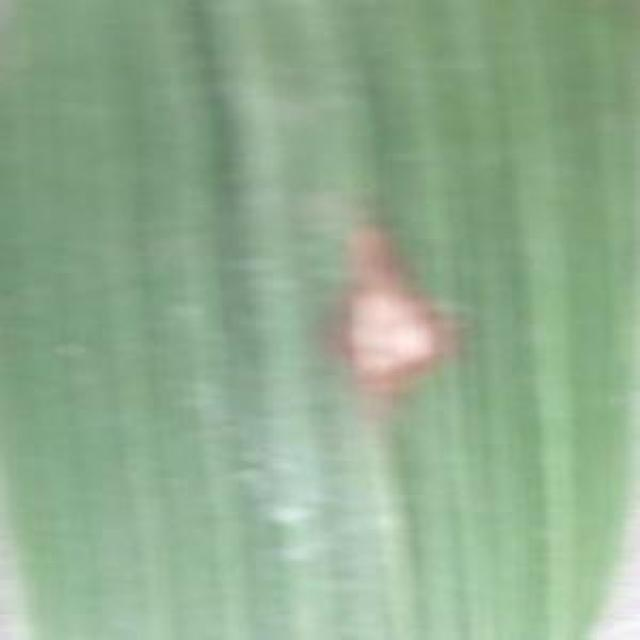Leaf_Blast: (316, 198, 484, 448)
